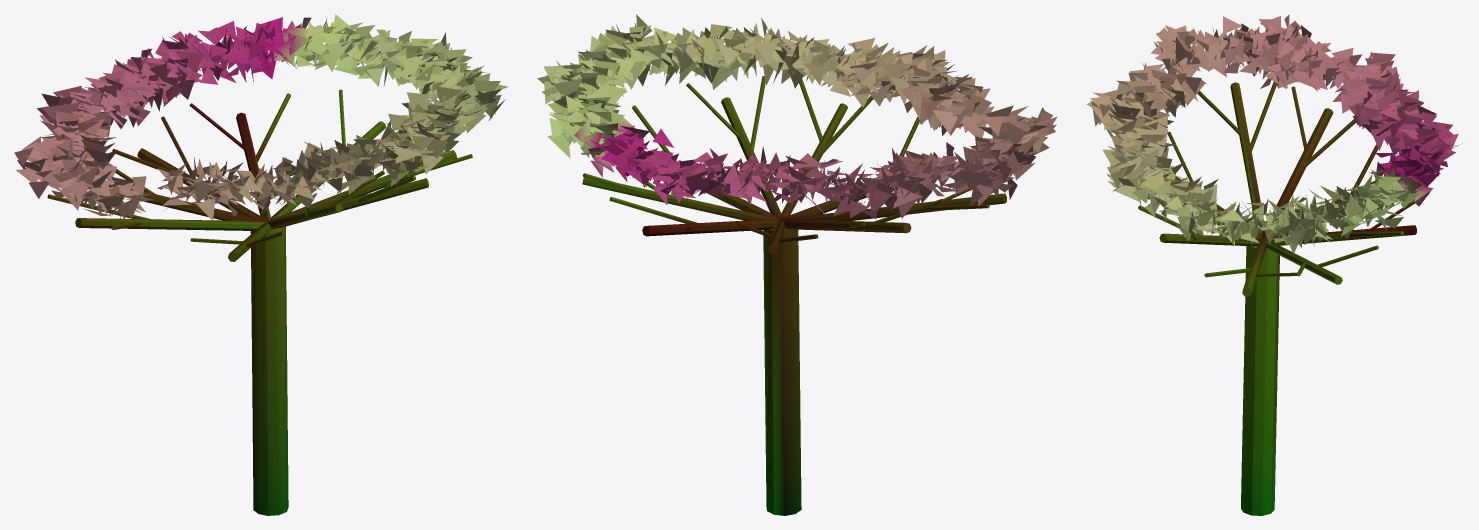
The model's file is ecological_savanna_mature_01.glb.
3 renders of one model, left to right at view 1: azimuth 30°, elevation 25°; view 2: azimuth 150°, elevation 25°; view 3: azimuth 270°, elevation 25°, orthographic. The views are drawn at different scales.
Visible parts, largest first — view 1: ecological_savanna_mature_01; view 2: ecological_savanna_mature_01; view 3: ecological_savanna_mature_01.
Boxes of the visible parts, bbox=[...] form: ecological_savanna_mature_01: bbox=[14, 14, 507, 515]; ecological_savanna_mature_01: bbox=[537, 14, 1057, 515]; ecological_savanna_mature_01: bbox=[1086, 14, 1458, 515].
Size of the model in its own units: 22.33 by 19.19 by 16.82.
